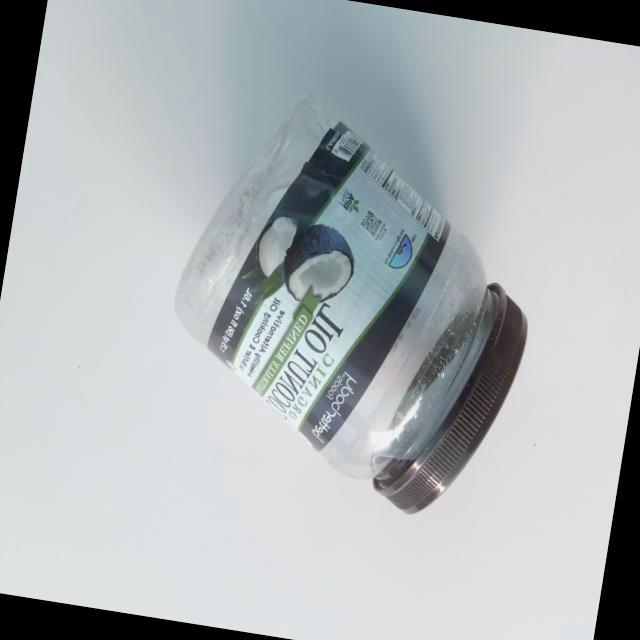plastic: (124, 56, 572, 557)
